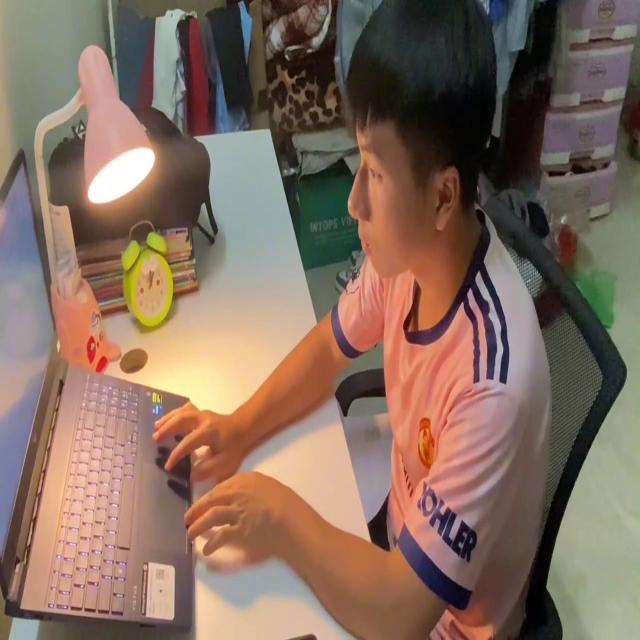book: (338, 398, 395, 533)
laptop: (0, 141, 195, 634)
student: (151, 0, 552, 640)
